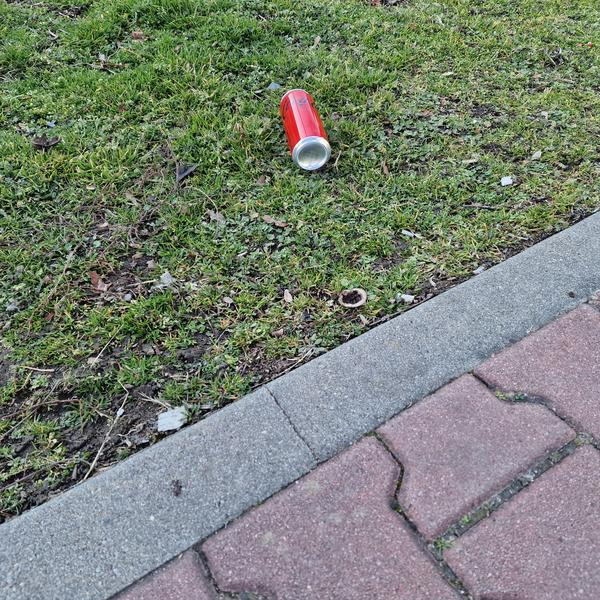can: (274, 84, 336, 178)
